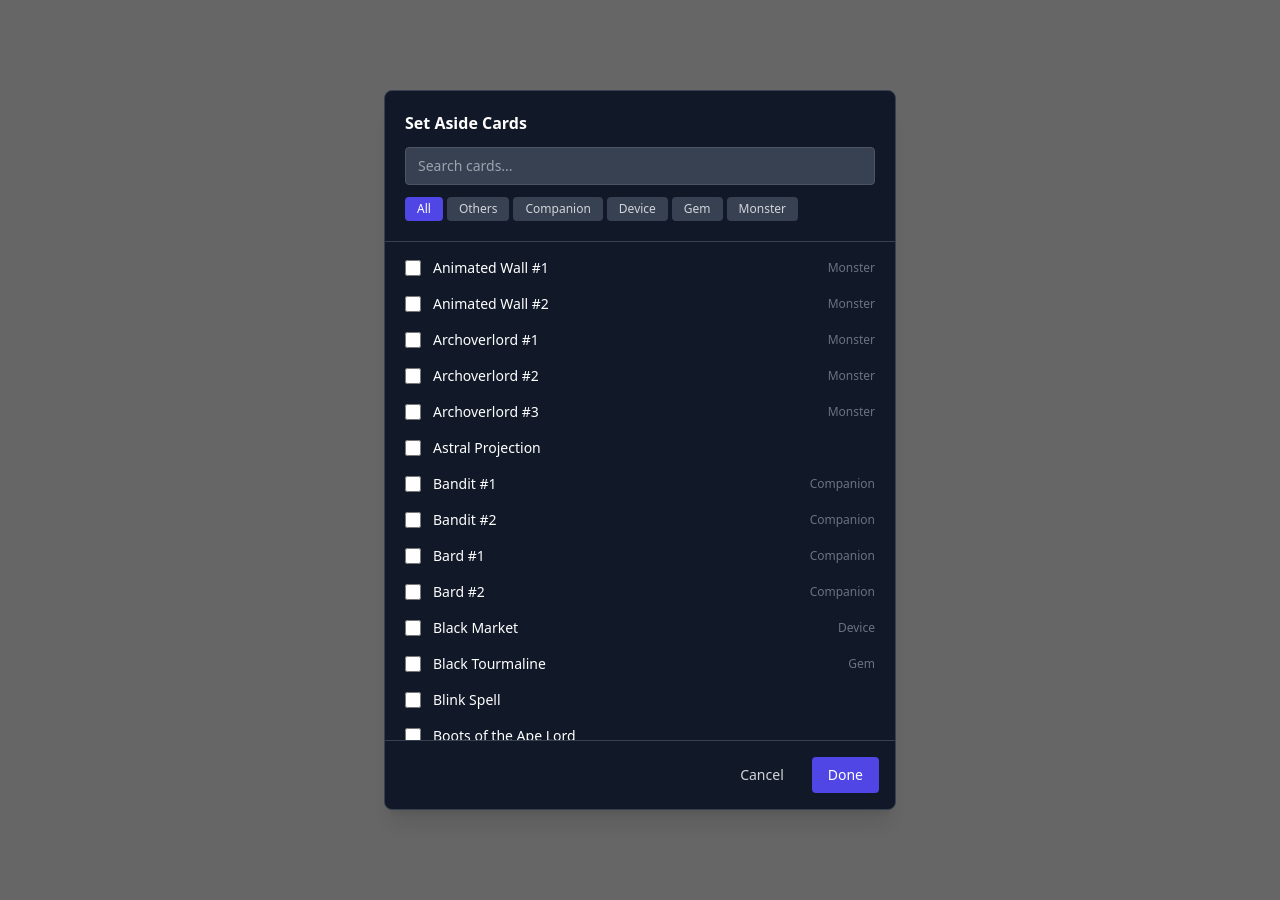
CardPickerModal › filtering by Others type shows only cards with no type
Step 1. Click the button "Others" → (478, 209), box [447,197,510,221]
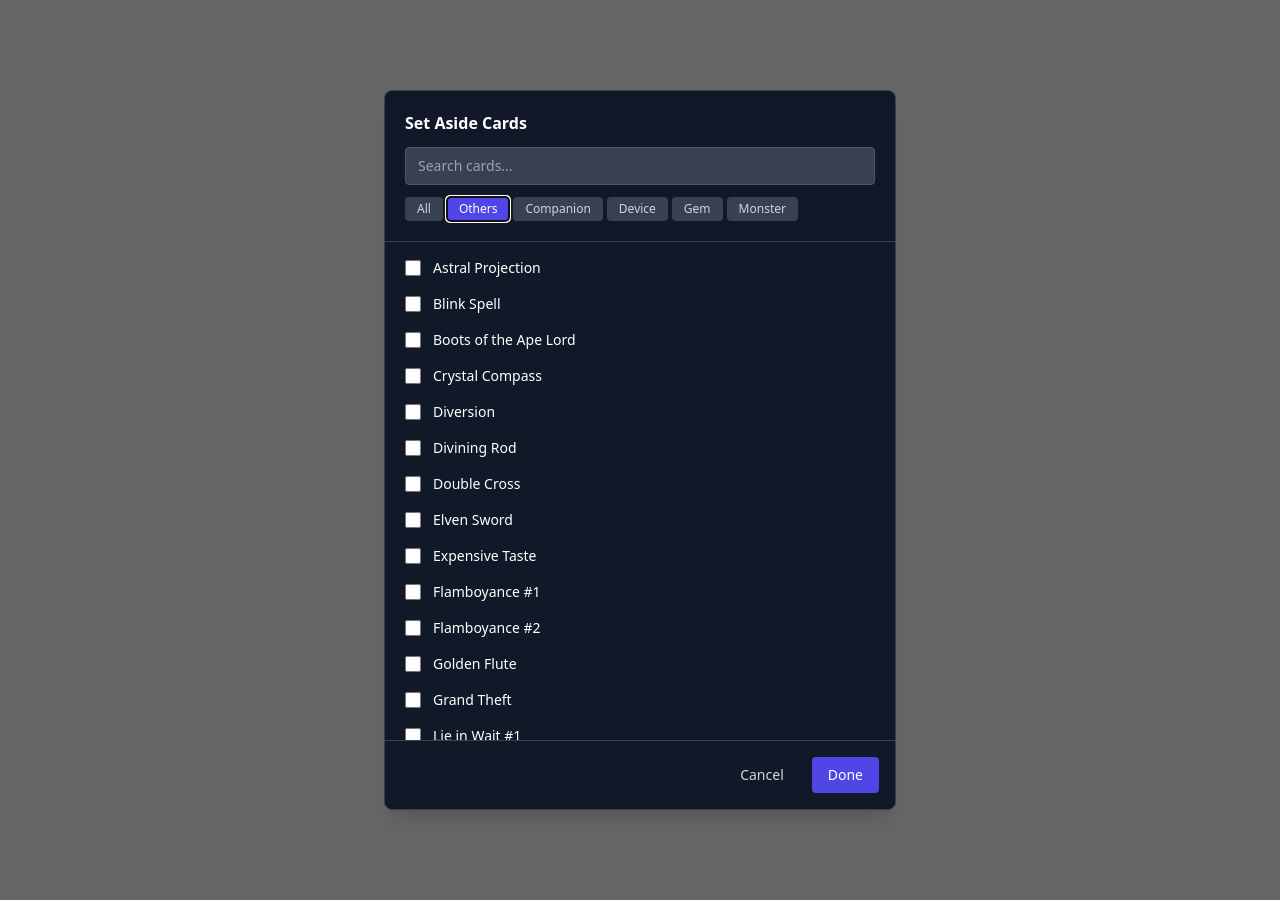
Expected: the text "Elven Sword" is shown, [433,510,513,529]
